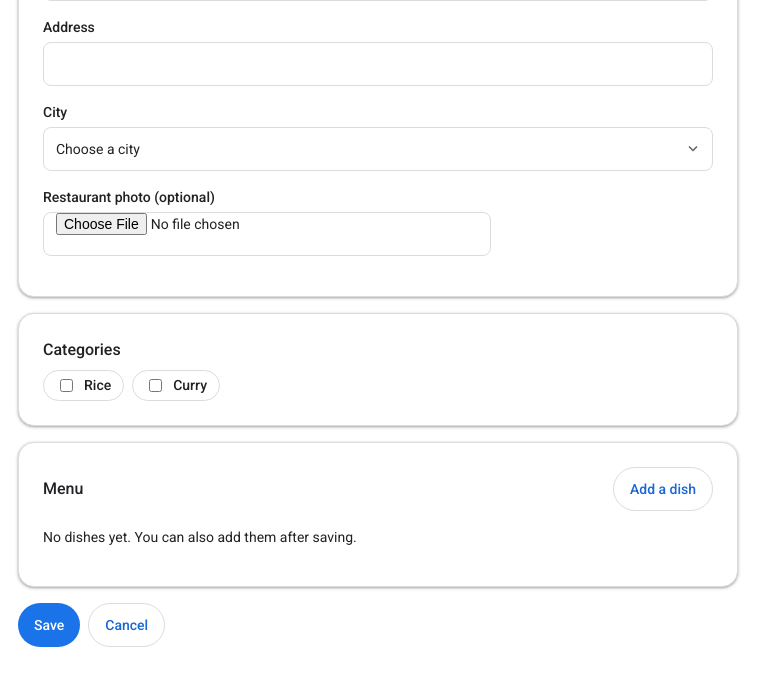
Test: RestaurantFormComponent › shows the schema messages and sends nothing while the form is invalid
The width and height of the screenshot is (757, 695).
(page scrolled)
Click the submit button. click: click(49, 625)
box: [18,603,80,647]
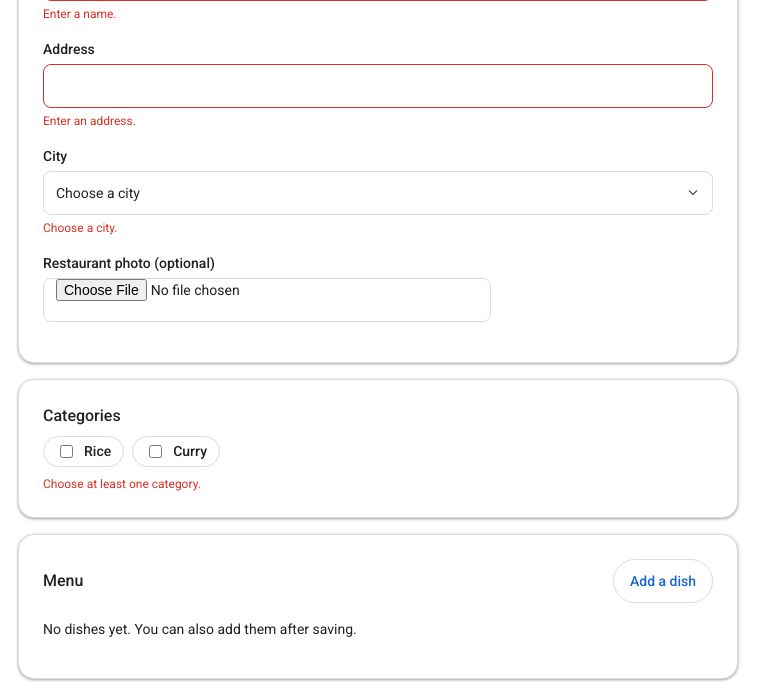
Expected: the text "Enter a name." is shown, [43,7,116,21]
Expected: the text "Choose at least one category." is shown, [43,477,201,491]
